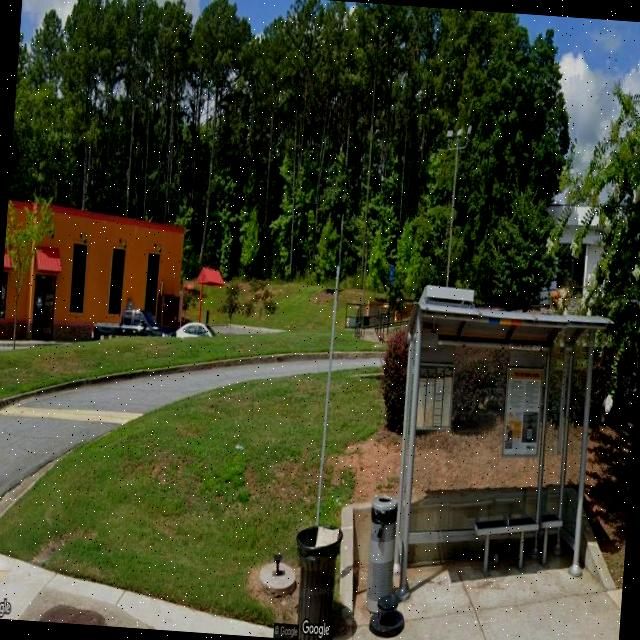seating: (470, 511, 538, 577)
shelter: (387, 293, 615, 616)
trash_can: (289, 522, 342, 640), (363, 493, 399, 618)
